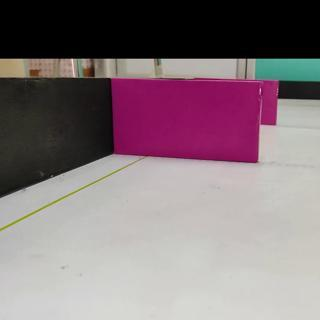xparking: (116, 79, 258, 163)
